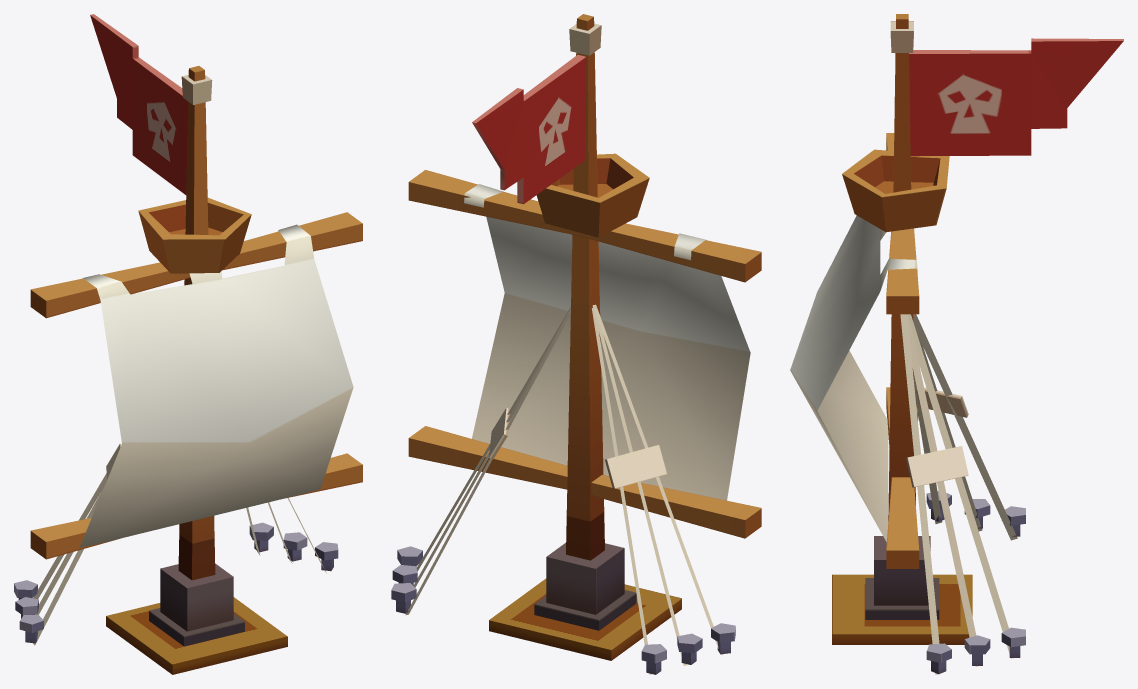
The model's file is Pirate_Ship_We_Sails_001.FBX.
3 views of the same model, side by side, from view 1: azimuth 30°, elevation 25°; view 2: azimuth 150°, elevation 25°; view 3: azimuth 270°, elevation 25° (orthographic). The views are drawn at different scales.
Parts seen in each view (by area): view 1: Pirate_Ship_We_Sails_001; view 2: Pirate_Ship_We_Sails_001; view 3: Pirate_Ship_We_Sails_001.
Boxes of the visible parts, x1,y1,x2,y2 form: Pirate_Ship_We_Sails_001: [14, 14, 362, 674]; Pirate_Ship_We_Sails_001: [391, 14, 761, 674]; Pirate_Ship_We_Sails_001: [790, 14, 1123, 674].
Size of the model in its own units: 9.7 by 16.55 by 8.36.
